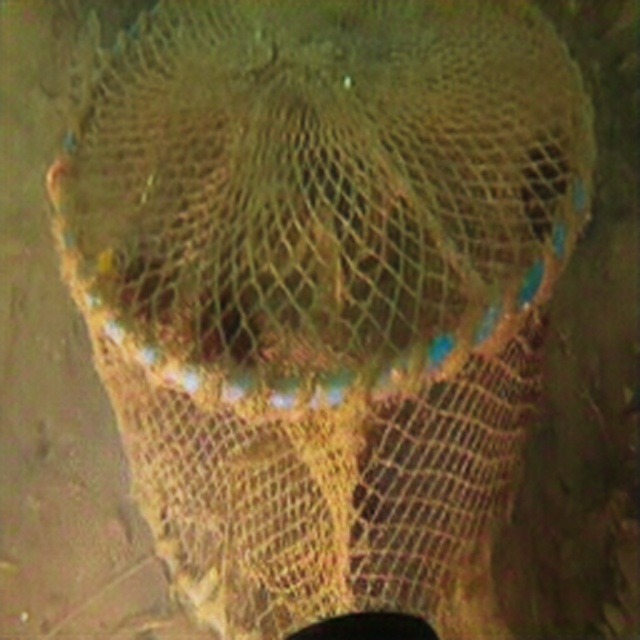mine: (52, 0, 600, 640)
